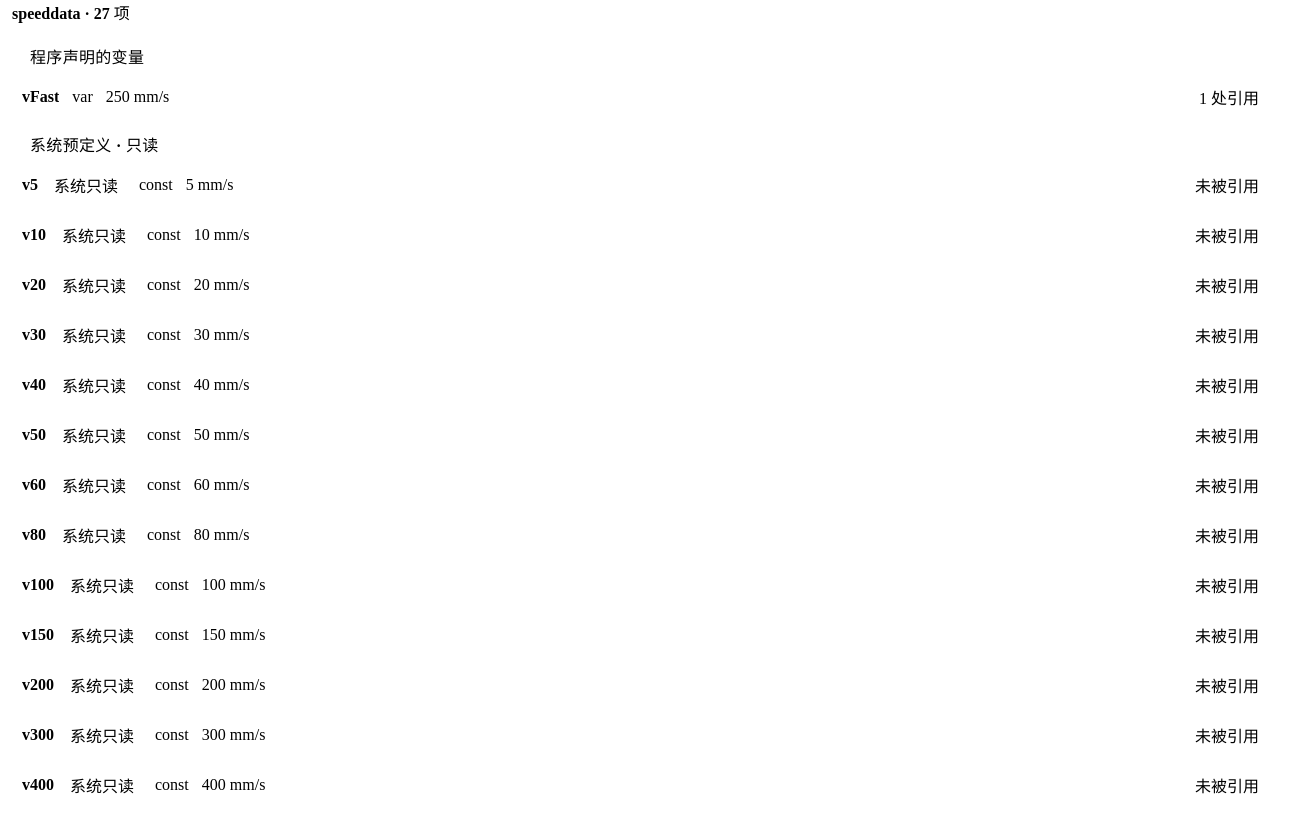
Test: ProgramDataReadonlyList — 五类数据浏览与只读 › 系统预定义项（tool0/z50/v100）显示只读标记与系统分节头
The image size is (1292, 813).
Click the button "v100 系统只读 const 100 mm/s 未被引用".
click(38, 584)  # box x1=12 y1=562 x2=1277 y2=608
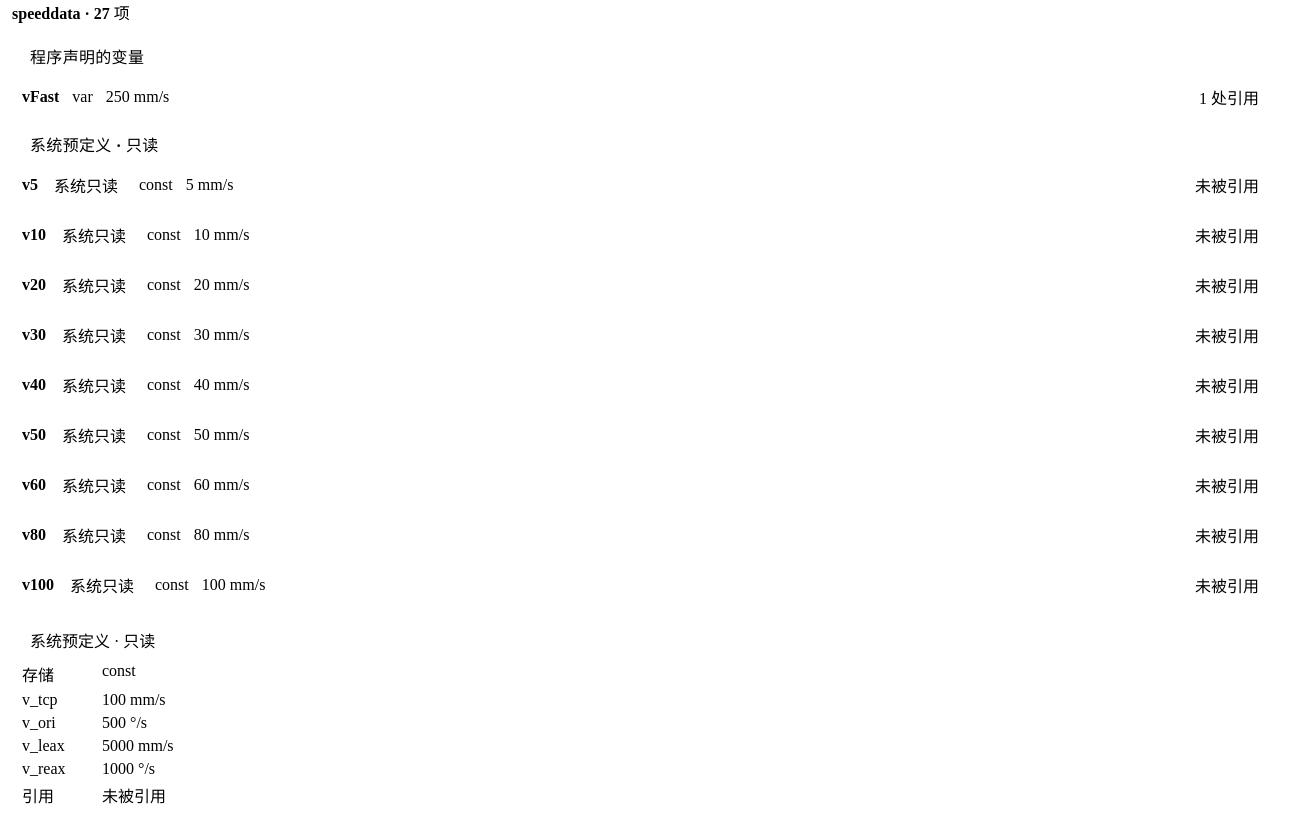
expect the element named "speeddata 详情" shows "系统预定义 · 只读": met, box x1=30 y1=633 x2=155 y2=650
